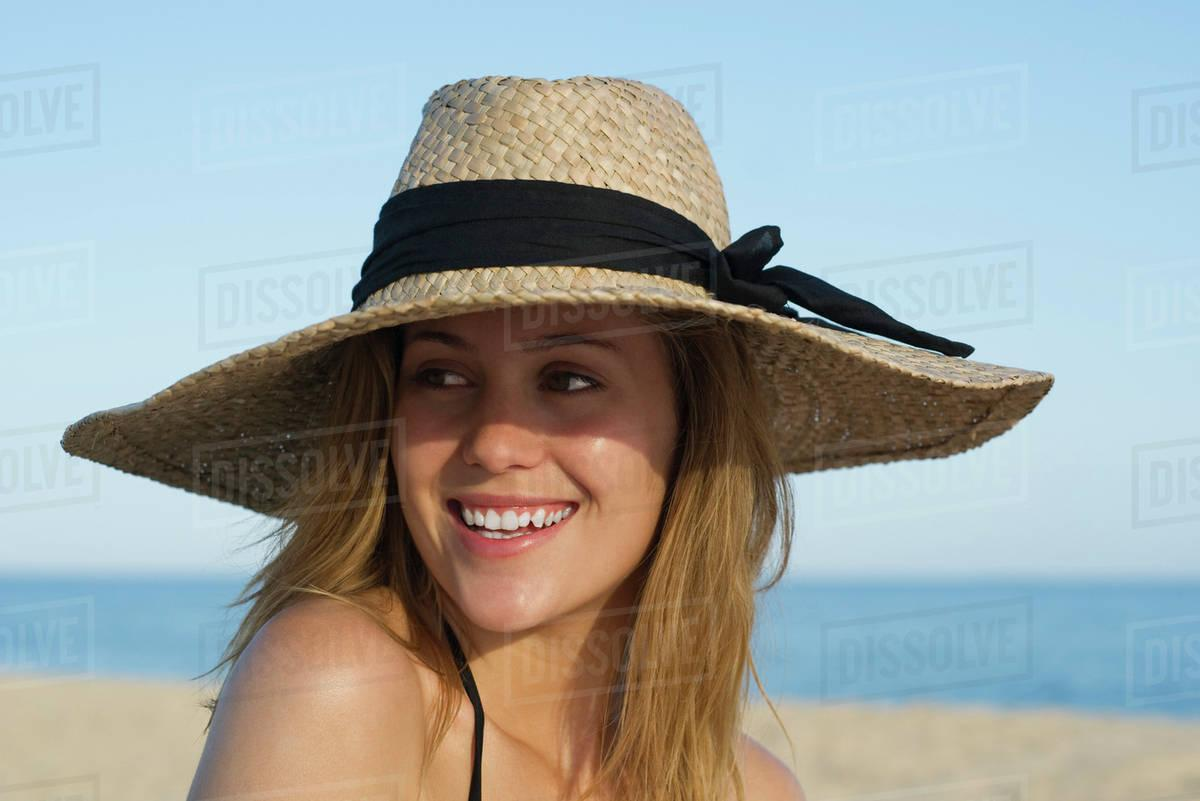cap: (58, 48, 1132, 532)
